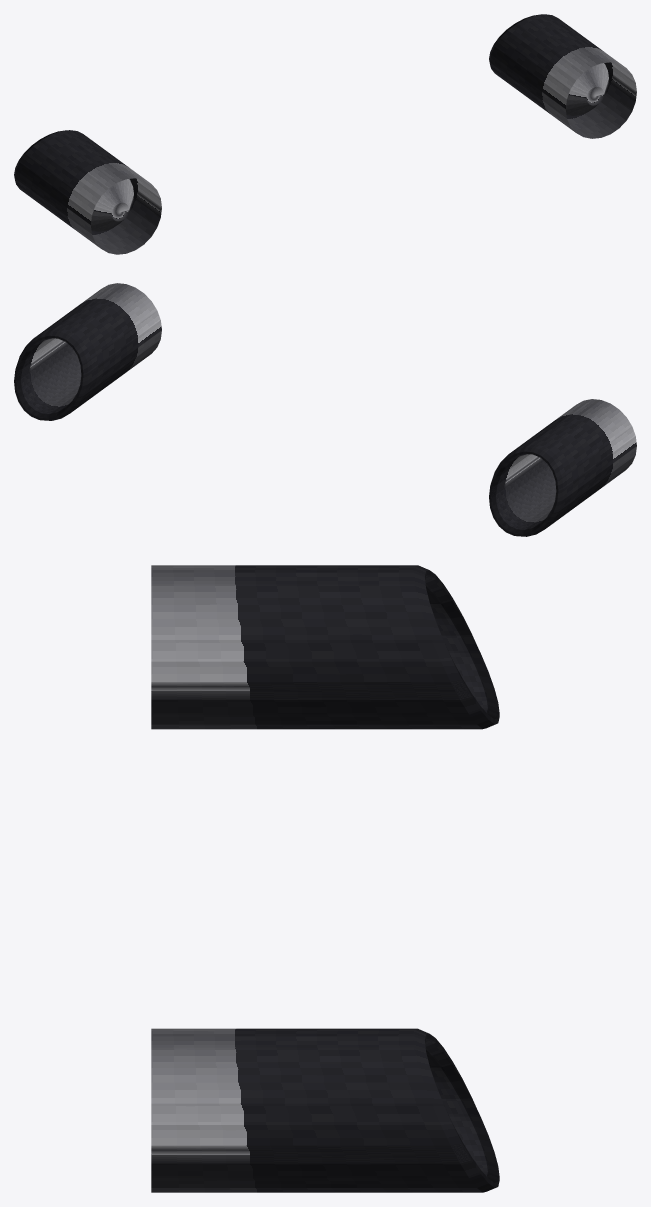
The model's file is exhaust_bigbore.obj.
3 views of the same model, one above another, from view 1: azimuth 30°, elevation 25°; view 2: azimuth 150°, elevation 25°; view 3: azimuth 270°, elevation 25° (orthographic). The views are drawn at different scales.
Size of the model in its own units: 1.01 by 0.132 by 0.2793.
1 material, 1 textured.
